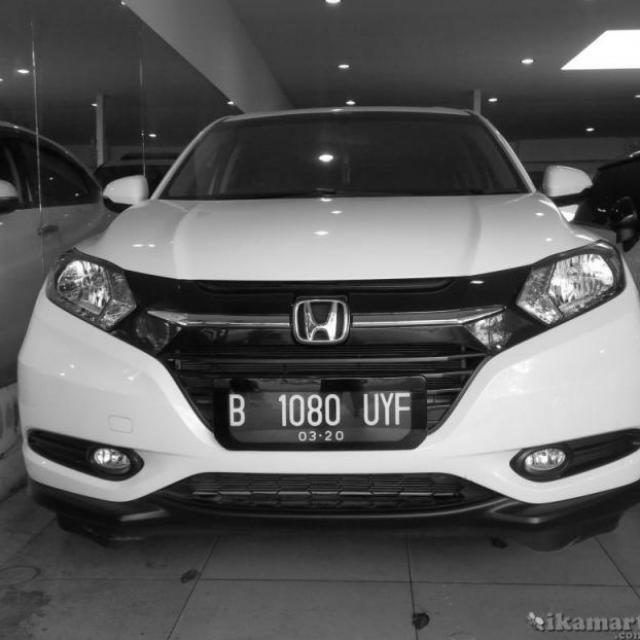0: (290, 394, 306, 428), (325, 395, 341, 429)
1: (278, 394, 288, 430)
8: (306, 394, 323, 428)
B: (228, 394, 248, 430)
F: (396, 393, 410, 429)
U: (361, 394, 380, 426)
Y: (380, 393, 396, 426)
